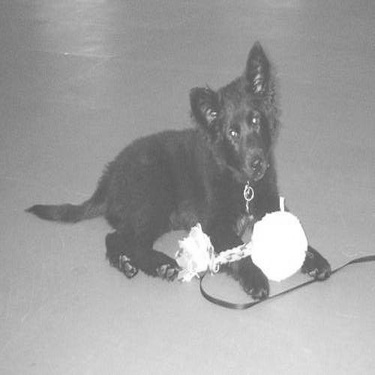dog: (15, 32, 336, 301)
